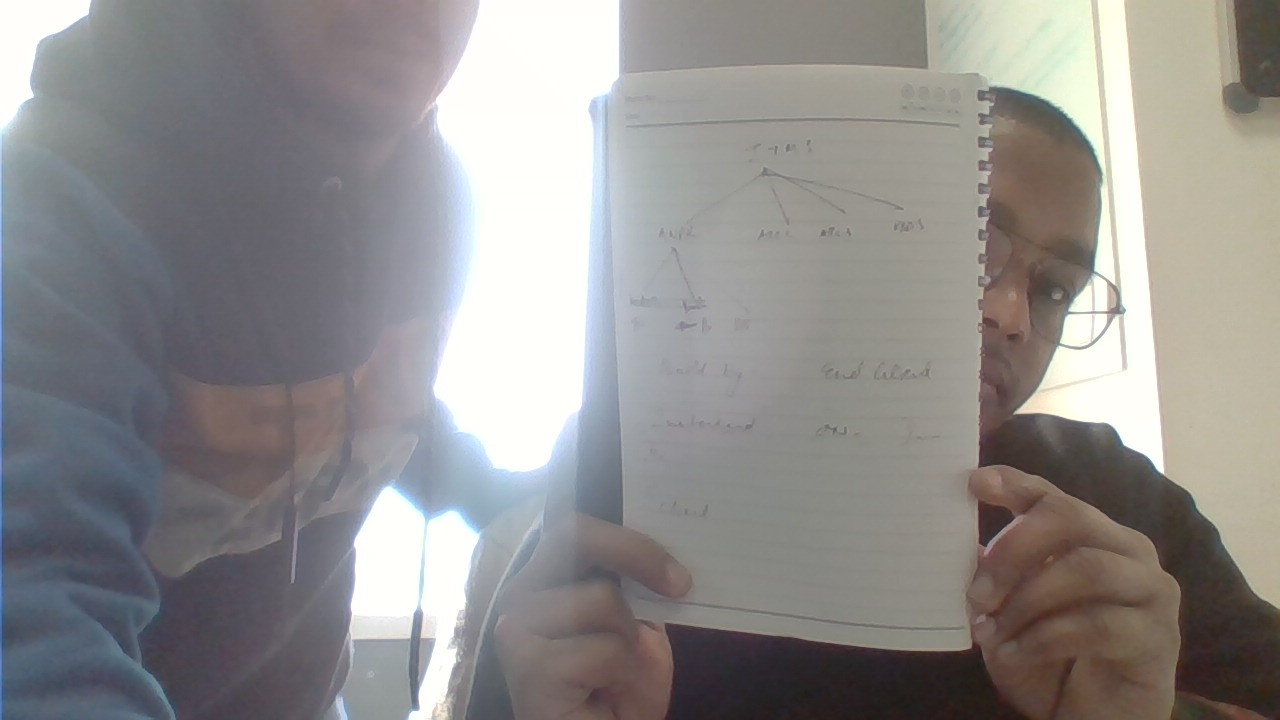notebook: (604, 67, 999, 652)
